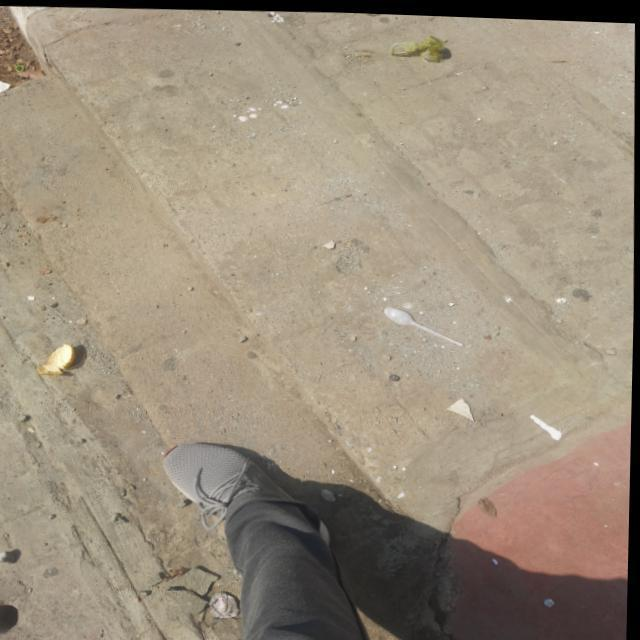Background: (0, 6, 633, 640)
Disposable: (386, 304, 464, 342), (389, 32, 444, 58)
